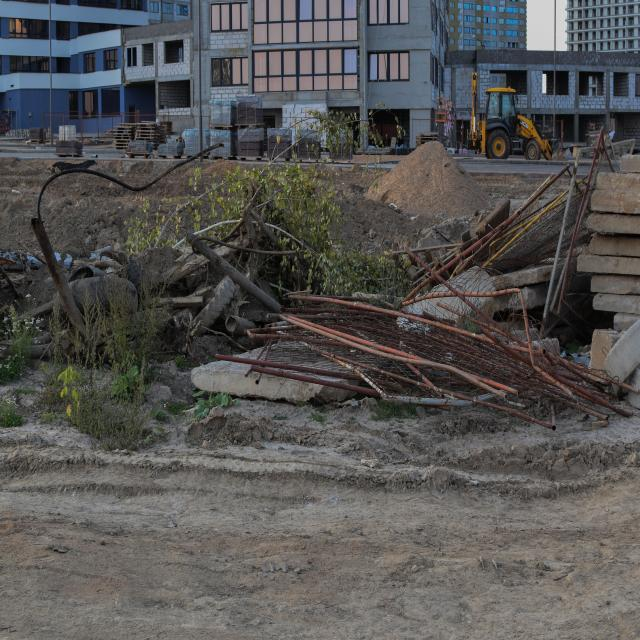entulho: (196, 282, 595, 416), (401, 204, 526, 304), (186, 230, 278, 312), (590, 312, 640, 406), (586, 172, 640, 218), (582, 232, 639, 258), (586, 210, 640, 237), (579, 253, 640, 274), (588, 272, 640, 296), (594, 292, 640, 314), (235, 96, 263, 128), (237, 127, 264, 159), (183, 128, 210, 158), (268, 128, 292, 161), (210, 98, 238, 126), (212, 130, 232, 158), (125, 140, 154, 158), (156, 139, 182, 159), (78, 130, 112, 144), (114, 124, 132, 150), (54, 140, 82, 156), (132, 120, 154, 138), (156, 120, 173, 142), (28, 128, 47, 144), (58, 125, 76, 141), (3, 130, 30, 140)
restos de madeira: (170, 174, 318, 287), (5, 302, 61, 337), (224, 312, 258, 338)
terra: (368, 135, 484, 227), (29, 162, 121, 269)
